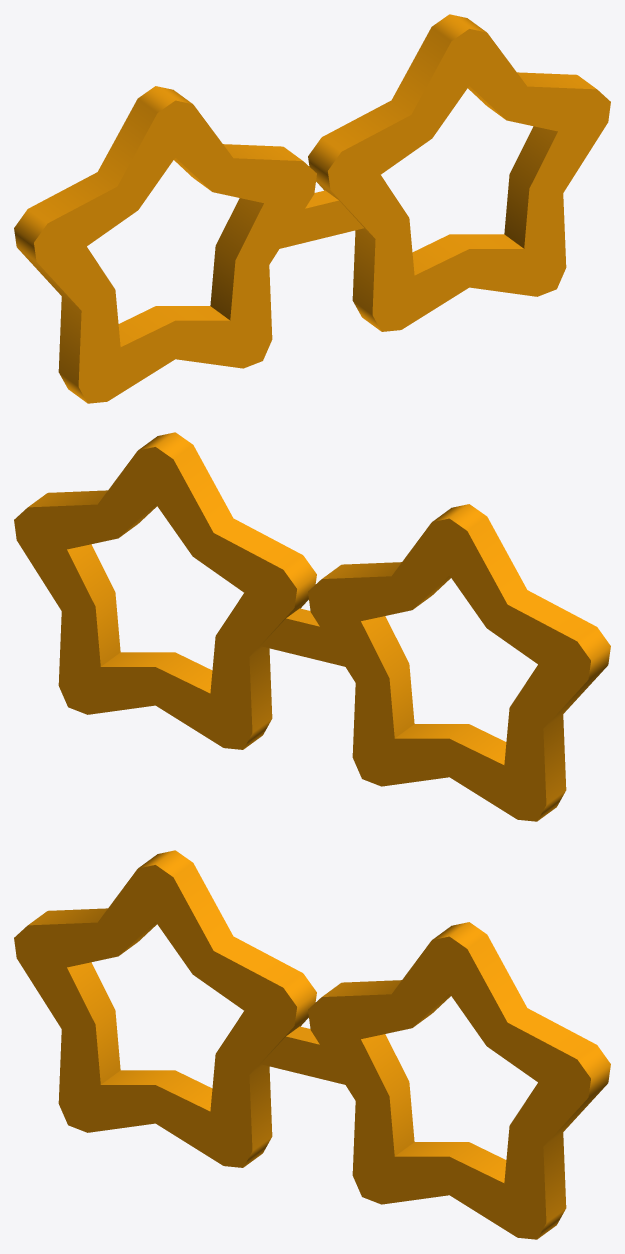
The model's file is Eyewear_8.fbx.
3 views of the same model, one above another, from view 1: azimuth 30°, elevation 25°; view 2: azimuth 150°, elevation 25°; view 3: azimuth 330°, elevation 25° (orthographic).
Visible parts, largest first — view 1: Eyewear_8; view 2: Eyewear_8; view 3: Eyewear_8.
Boxes of the visible parts, bbox=[...] form: Eyewear_8: bbox=[14, 14, 610, 403]; Eyewear_8: bbox=[14, 432, 610, 821]; Eyewear_8: bbox=[14, 850, 610, 1239].
Size of the model in its own units: 61.31 by 28.9 by 3.65.
